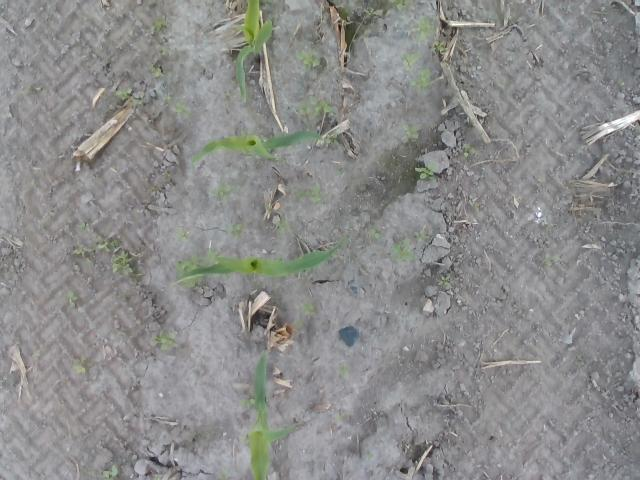Maize: (173, 237, 349, 285), (247, 350, 298, 480), (192, 130, 324, 168), (235, 0, 274, 105)
Weeds: (71, 222, 107, 260), (92, 244, 134, 274), (404, 54, 432, 90), (410, 19, 440, 46), (294, 99, 332, 120), (296, 48, 322, 72), (298, 183, 324, 204), (148, 18, 170, 40), (392, 241, 416, 261), (211, 184, 232, 206), (116, 89, 144, 104), (84, 466, 118, 478), (156, 331, 176, 350), (402, 125, 422, 144), (414, 227, 434, 244), (416, 166, 434, 184), (298, 299, 315, 318), (389, 1, 415, 12), (369, 227, 383, 243), (172, 104, 188, 118), (276, 220, 292, 234), (459, 144, 475, 158), (228, 225, 244, 238), (439, 272, 452, 286), (67, 292, 79, 306), (160, 91, 174, 103), (178, 226, 190, 240), (152, 66, 163, 80), (339, 364, 350, 378), (72, 364, 84, 374), (546, 257, 556, 267)
